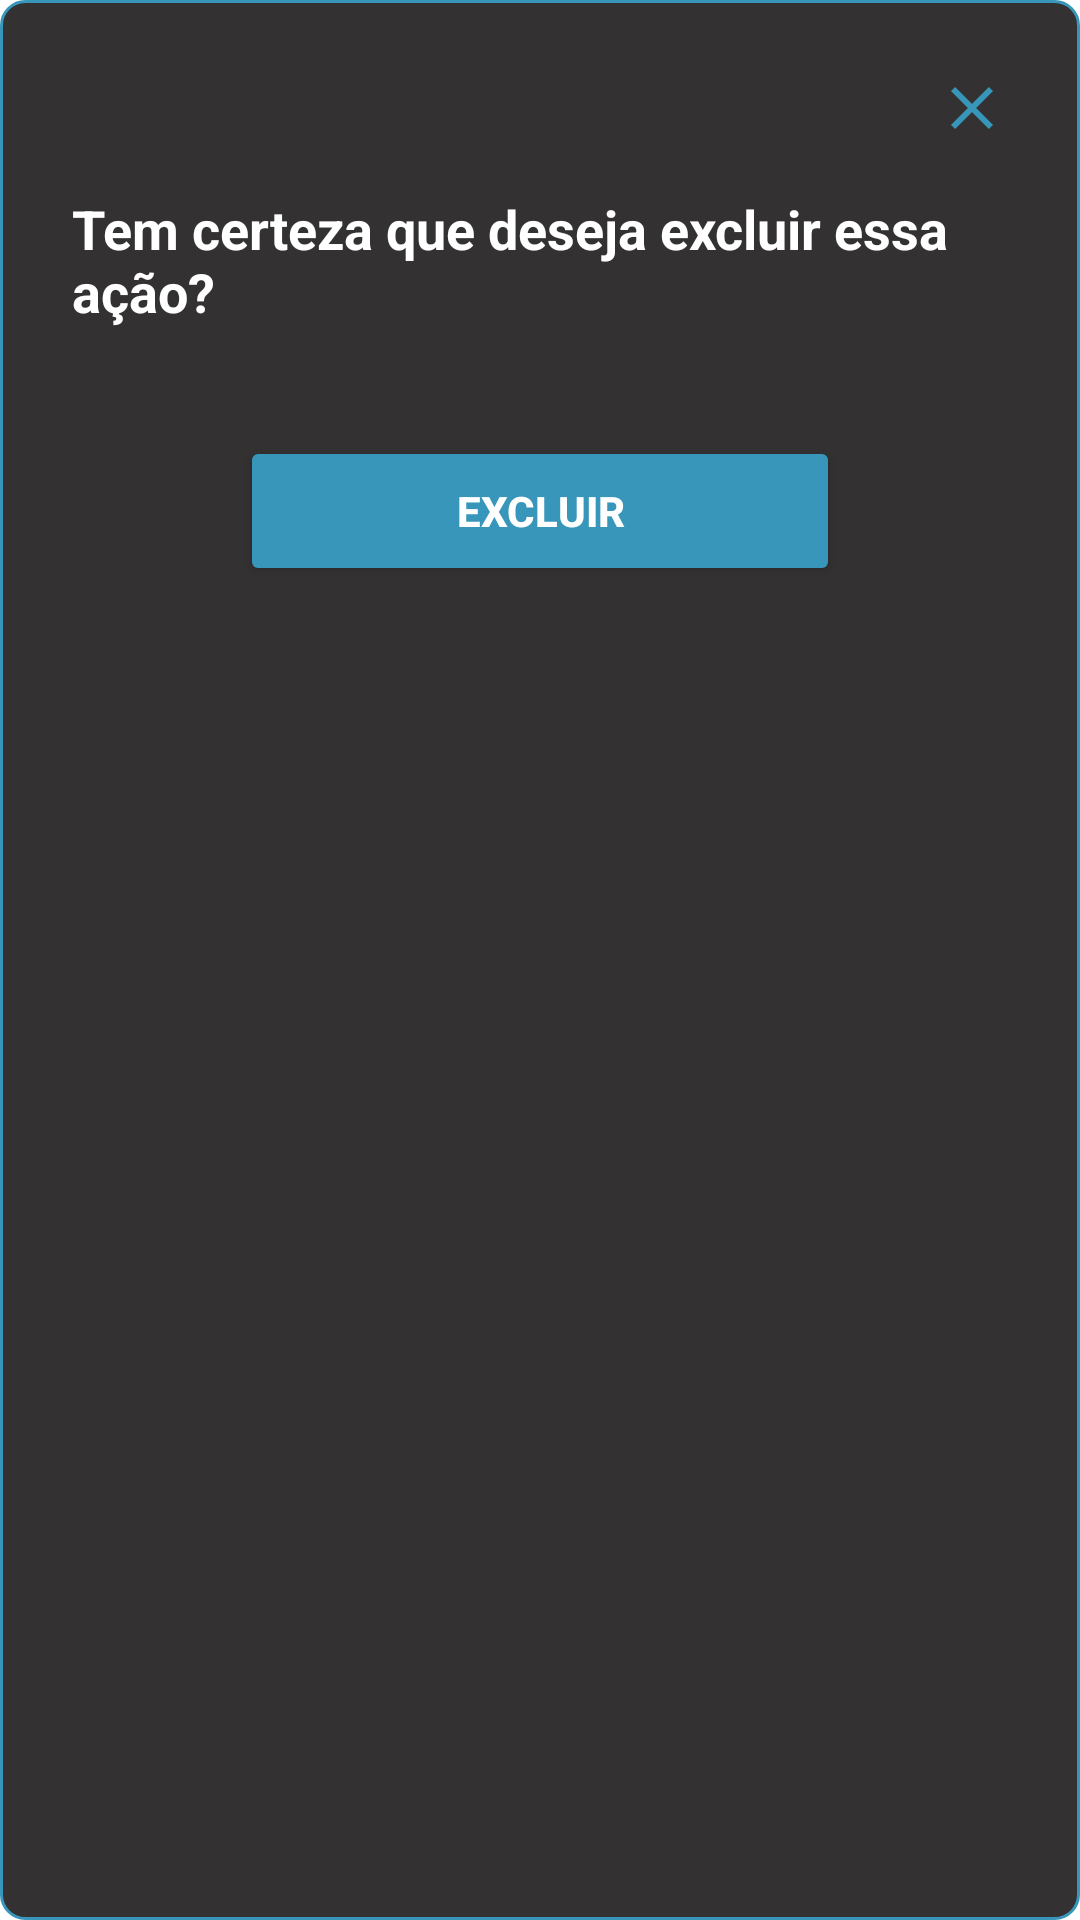

Point at icon controls on the screen. Image size 1080w x 1920h, points as (x,y).
close: (972,108)
